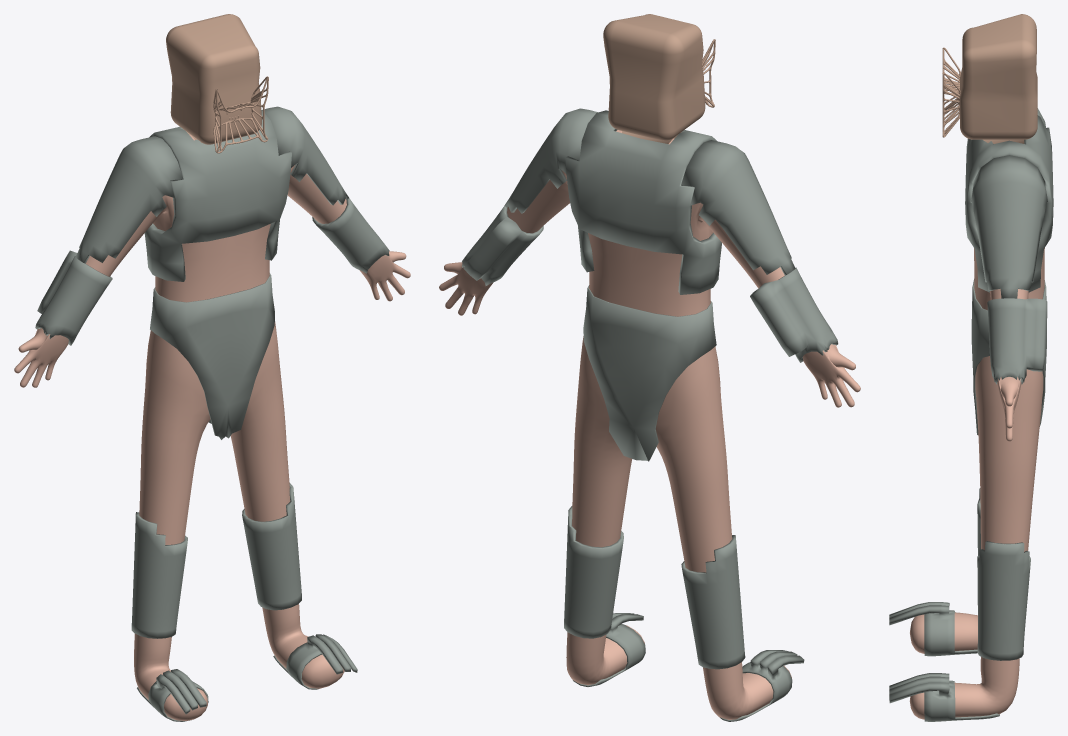
3 views of the same model, side by side, from view 1: azimuth 30°, elevation 25°; view 2: azimuth 150°, elevation 25°; view 3: azimuth 270°, elevation 25° (orthographic). The views are drawn at different scales.
Visible parts, largest first — view 1: Cuerpo.001, Pechera, Calzon, Hombro, Pantorrilla, Cabezza, Brazalete, Pie, Boca; view 2: Cuerpo.001, Pechera, Calzon, Hombro, Cabezza, Pantorrilla, Brazalete, Pie; view 3: Cuerpo.001, Cabezza, Hombro, Pantorrilla, Brazalete, Pie, Pechera, Calzon, Boca.
Part boxes in pixels (<box>): Cuerpo.001: <box>14,134,410,720</box>; Pechera: <box>144,110,291,281</box>; Calzon: <box>150,273,274,439</box>; Hombro: <box>76,106,348,263</box>; Pantorrilla: <box>131,483,301,638</box>; Cabezza: <box>166,14,261,144</box>; Brazalete: <box>35,198,389,345</box>; Pie: <box>137,634,357,721</box>; Boca: <box>213,76,268,153</box>; Cuerpo.001: <box>439,130,860,719</box>; Pechera: <box>565,110,721,294</box>; Calzon: <box>583,285,716,461</box>; Hombro: <box>504,108,795,275</box>; Cabezza: <box>603,14,705,143</box>; Pantorrilla: <box>564,506,745,669</box>; Brazalete: <box>462,206,838,362</box>; Pie: <box>573,613,804,721</box>; Cuerpo.001: <box>909,248,1044,719</box>; Cabezza: <box>960,14,1037,143</box>; Hombro: <box>970,108,1048,298</box>; Pantorrilla: <box>977,488,1030,660</box>; Brazalete: <box>987,298,1047,384</box>; Pie: <box>889,602,999,721</box>; Pechera: <box>965,115,1053,292</box>; Calzon: <box>971,279,1046,434</box>; Boca: <box>942,47,960,137</box>.
Size of the model in its own units: 255 by 399 by 90.36.
9 materials, 9 textured.
